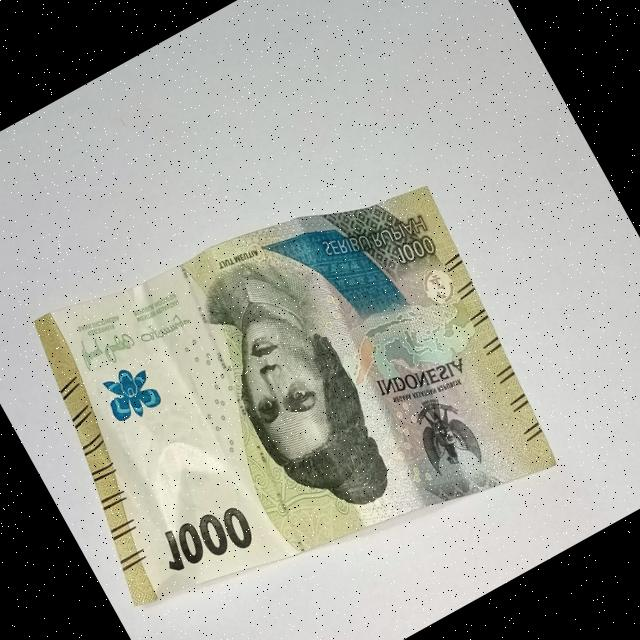1K: (0, 98, 606, 640)
